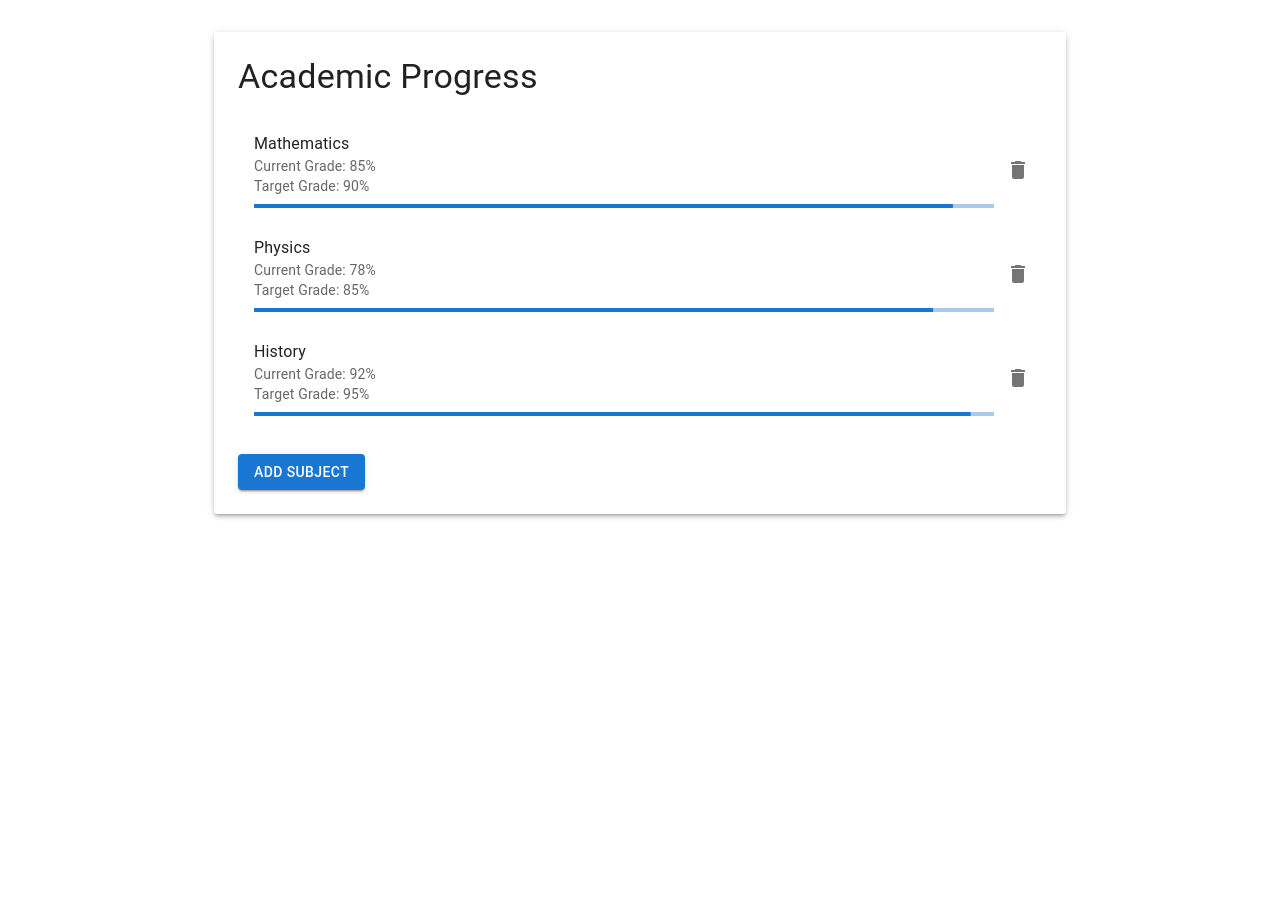
Test: Progress Component › can add new subject
The image size is (1280, 900).
Click the button "Add Subject" at [302, 472], box [238,454,365,490]
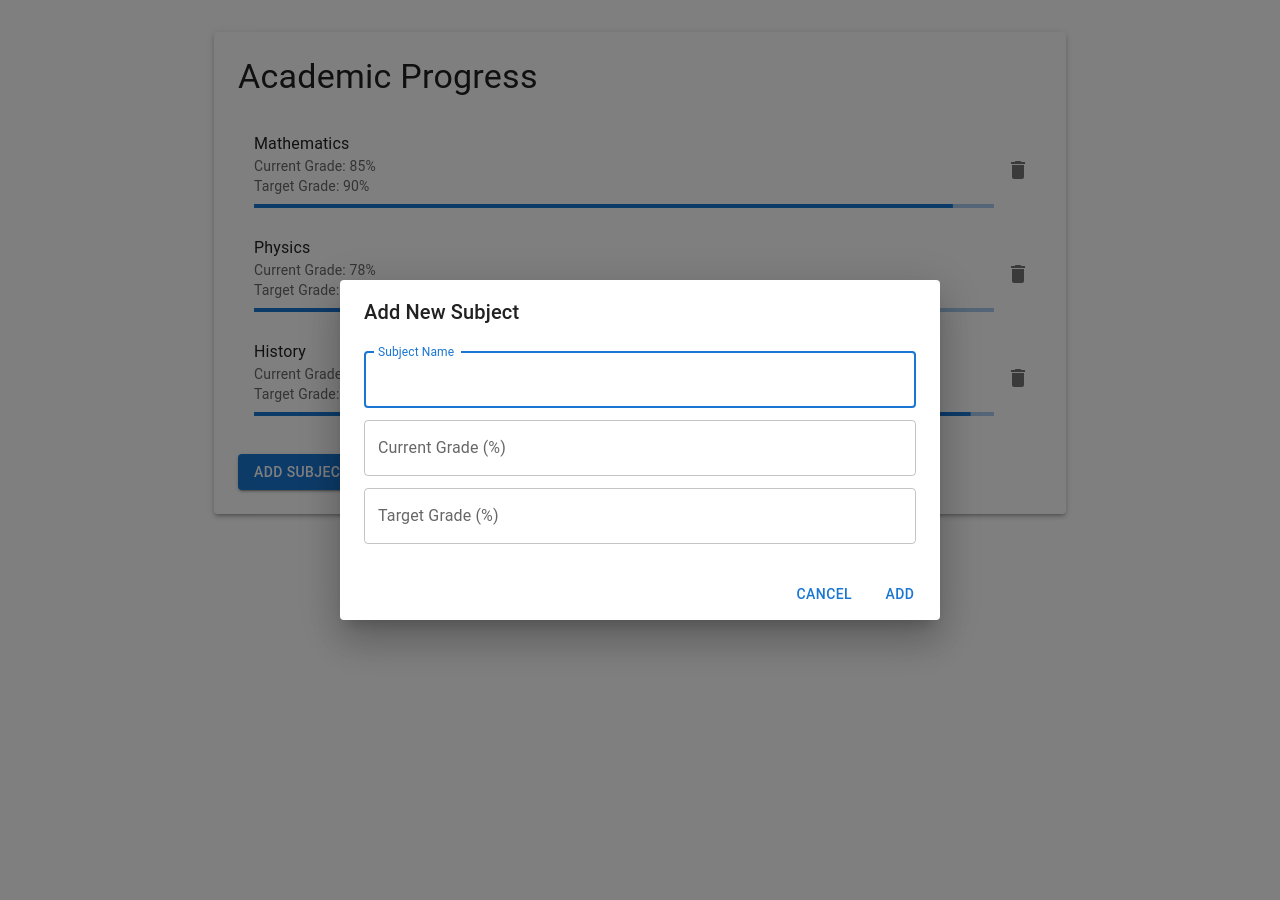
// Fill in the form
Type "Chemistry" into the field labelled "Subject Name" at [640, 380], box [364,352,916,408]
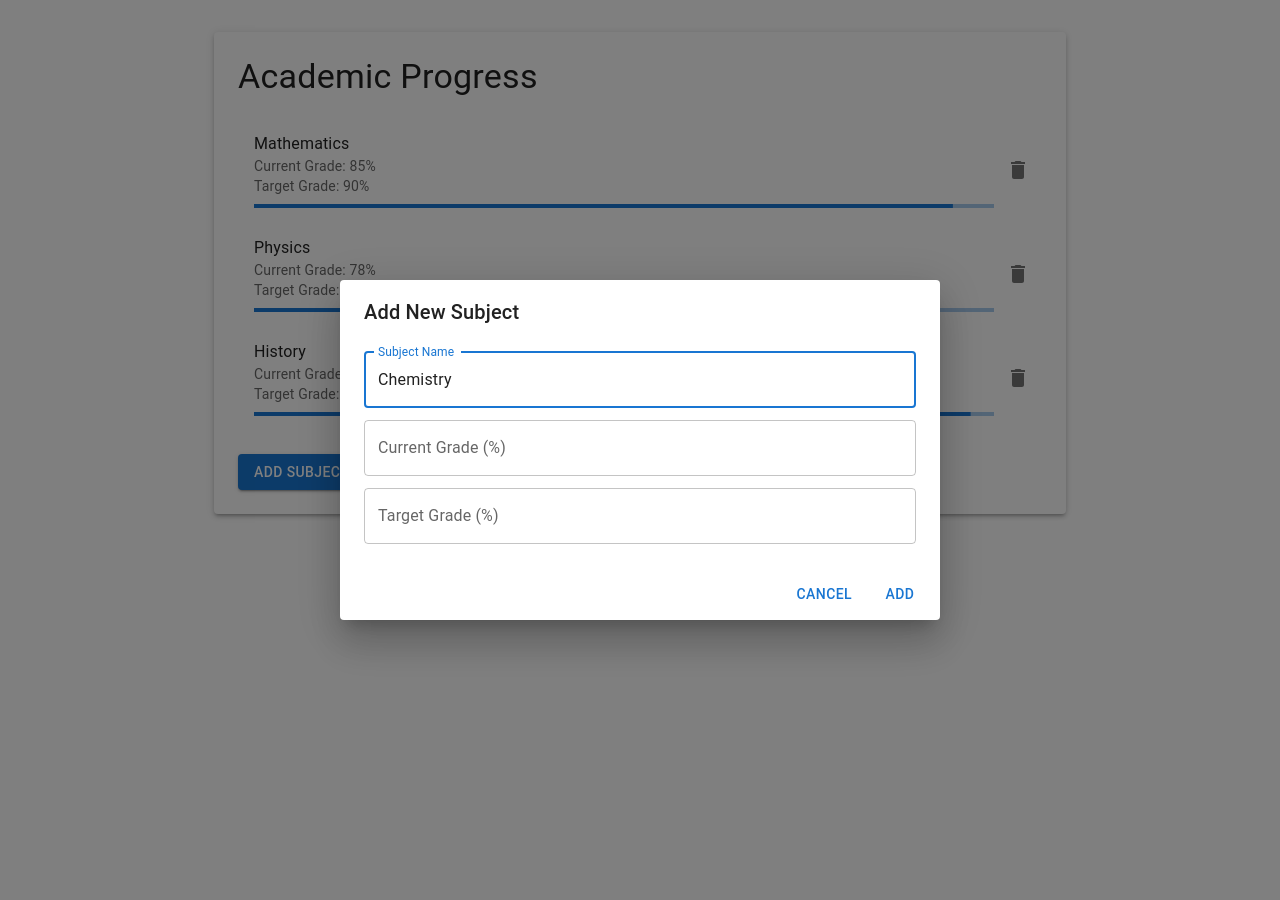
Type "88" into the number field labelled "Current Grade (%)" at [640, 448], box [364,420,916,476]
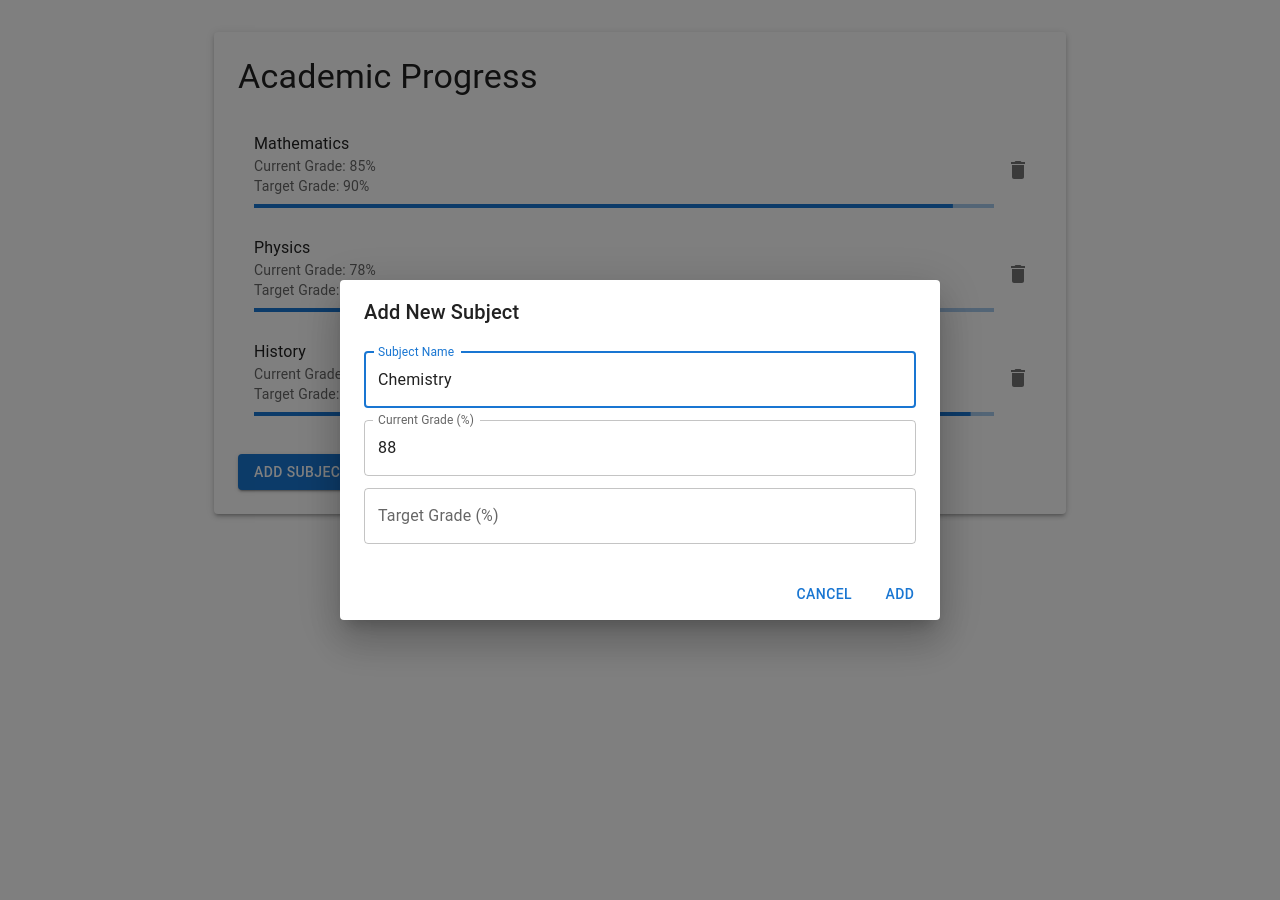
Type "90" into the number field labelled "Target Grade (%)" at [640, 516], box [364,488,916,544]
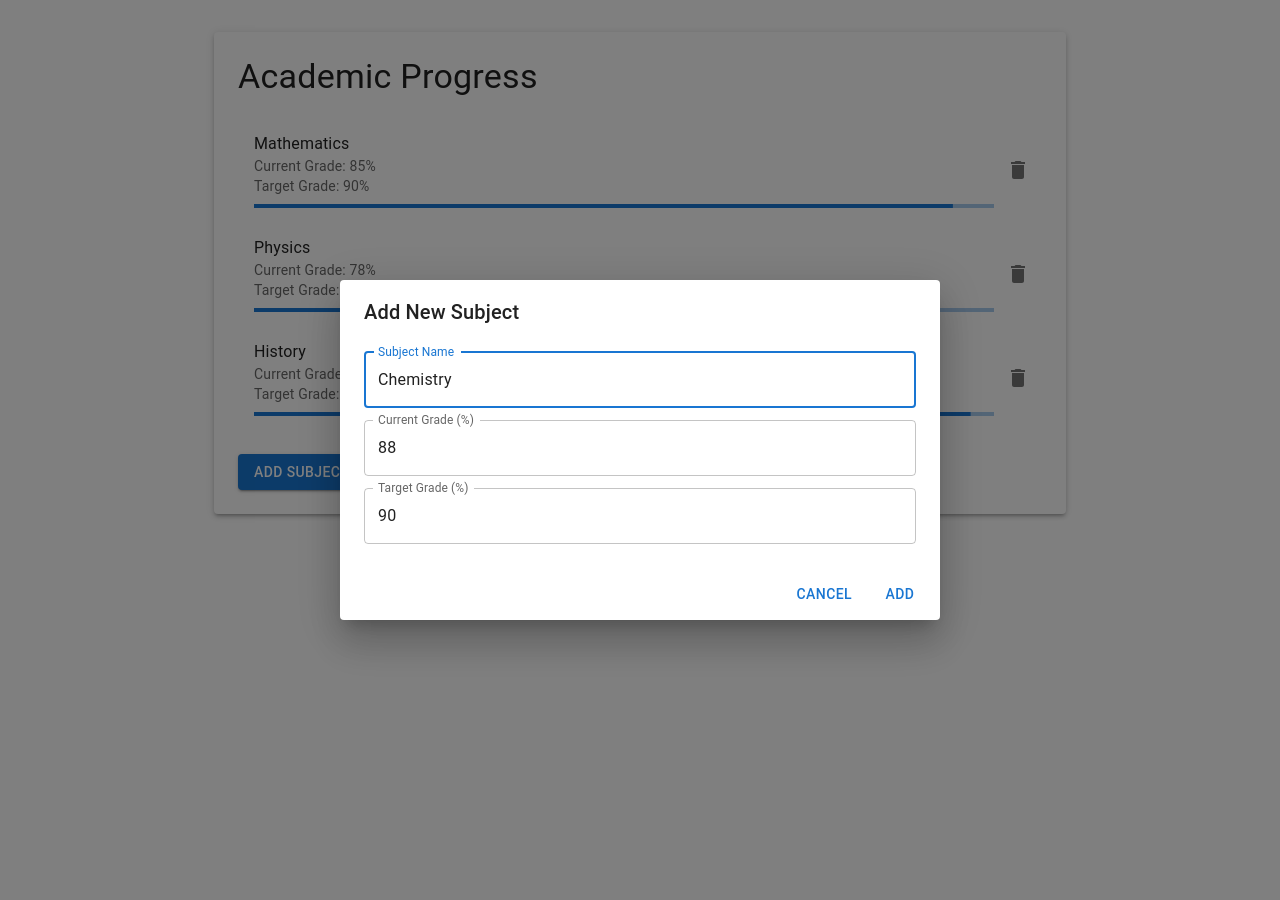
// Submit the form
Click the button "Add" at [900, 594], box [868,576,932,612]
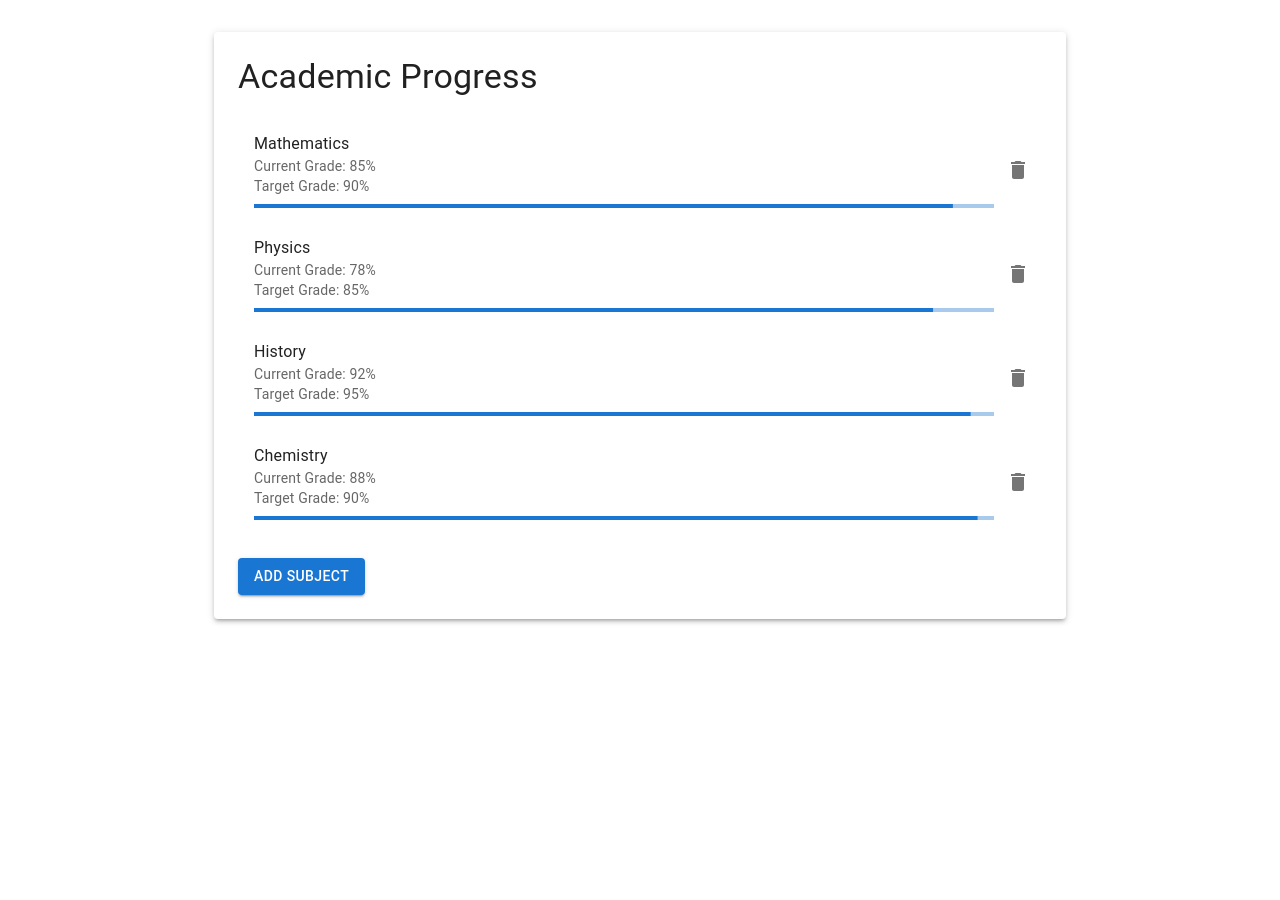
Expected: the text "Chemistry" is shown, [254,446,328,465]
